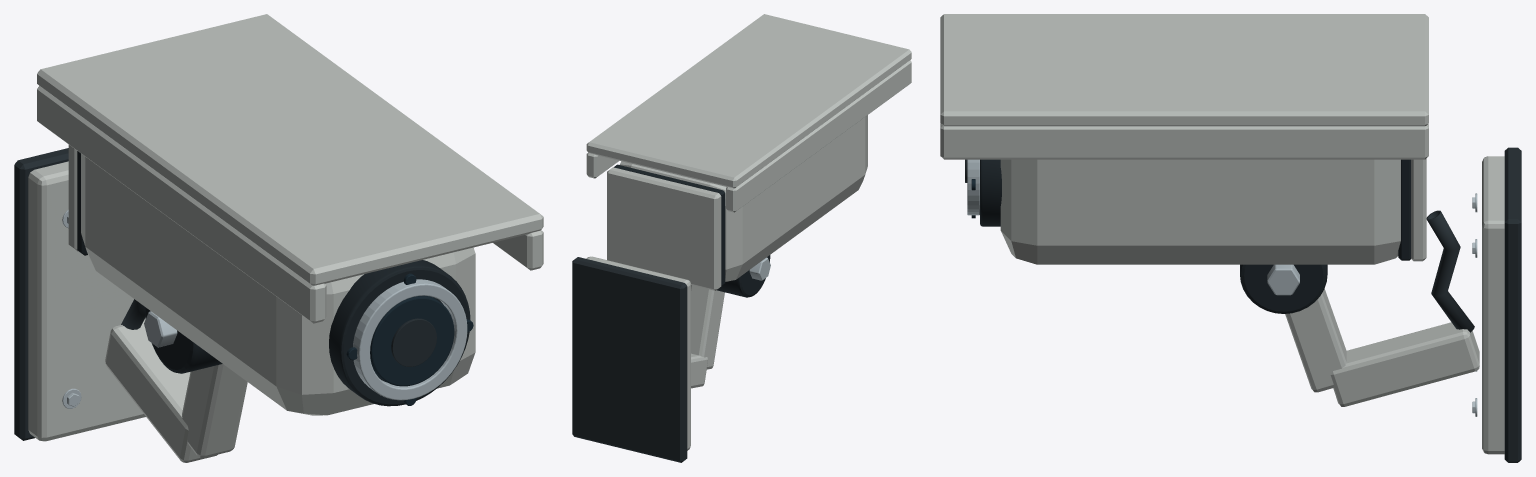
The model's file is city-security-camera.glb.
The picture shows the model from 3 angles, left to right: view 1: azimuth 30°, elevation 25°; view 2: azimuth 150°, elevation 25°; view 3: azimuth 270°, elevation 25°; orthographic projection. The views are drawn at different scales.
Visible parts, largest first — view 1: Weather hood roof, Camera enclosure, Wall mounting plate, Weather hood side lip, Wall camera support, Front optical bezel, Lens retaining ring, Wall mounting gasket, Camera tilt bracket, Recessed lens element, Inner lens aperture, Tilt hinge axle (+3 smaller); view 2: Weather hood roof, Wall mounting gasket, Rear end cap, Camera enclosure, Weather hood side lip, Camera tilt bracket, Wall mounting plate, Rear service seam, Tilt hinge axle, Weather hood side lip.001, Wall camera support; view 3: Weather hood roof, Camera enclosure, Weather hood side lip.001, Wall camera support, Wall mounting plate, Wall mounting gasket, Camera tilt bracket, Tilt hinge axle, Protected rear cable, Rear end cap, Front optical bezel, Rear service seam (+2 smaller).
Part boxes in pixels (x1,y1,x2,y2): Weather hood roof: (37, 14, 543, 285); Camera enclosure: (81, 153, 475, 415); Wall mounting plate: (28, 161, 145, 441); Weather hood side lip: (37, 86, 326, 323); Wall camera support: (105, 319, 217, 462); Front optical bezel: (329, 260, 470, 406); Lens retaining ring: (353, 279, 467, 400); Wall mounting gasket: (14, 148, 68, 440); Camera tilt bracket: (182, 364, 247, 457); Recessed lens element: (370, 295, 454, 386); Inner lens aperture: (391, 318, 436, 366); Tilt hinge axle: (145, 307, 222, 373); Weather hood roof: (586, 14, 911, 188); Wall mounting gasket: (572, 257, 687, 462); Rear end cap: (607, 167, 721, 290); Camera enclosure: (619, 115, 867, 281); Weather hood side lip: (726, 60, 911, 212); Camera tilt bracket: (691, 285, 724, 369); Wall mounting plate: (586, 256, 690, 450); Rear service seam: (614, 164, 725, 285); Tilt hinge axle: (717, 255, 770, 297); Weather hood side lip.001: (586, 152, 618, 178); Wall camera support: (691, 353, 707, 388); Weather hood roof: (940, 14, 1428, 126); Camera enclosure: (1000, 159, 1400, 264); Weather hood side lip.001: (940, 124, 1428, 159); Wall camera support: (1330, 322, 1479, 406); Wall mounting plate: (1482, 156, 1504, 454); Wall mounting gasket: (1504, 147, 1521, 462); Camera tilt bracket: (1285, 289, 1346, 392); Tilt hinge axle: (1240, 264, 1327, 313); Protected rear cable: (1426, 210, 1474, 332); Rear end cap: (1411, 158, 1426, 261); Front optical bezel: (980, 159, 1001, 226); Rear service seam: (1398, 159, 1410, 260).
Bounding box in the file's own units: 0.168 × 0.284 × 0.4105.
